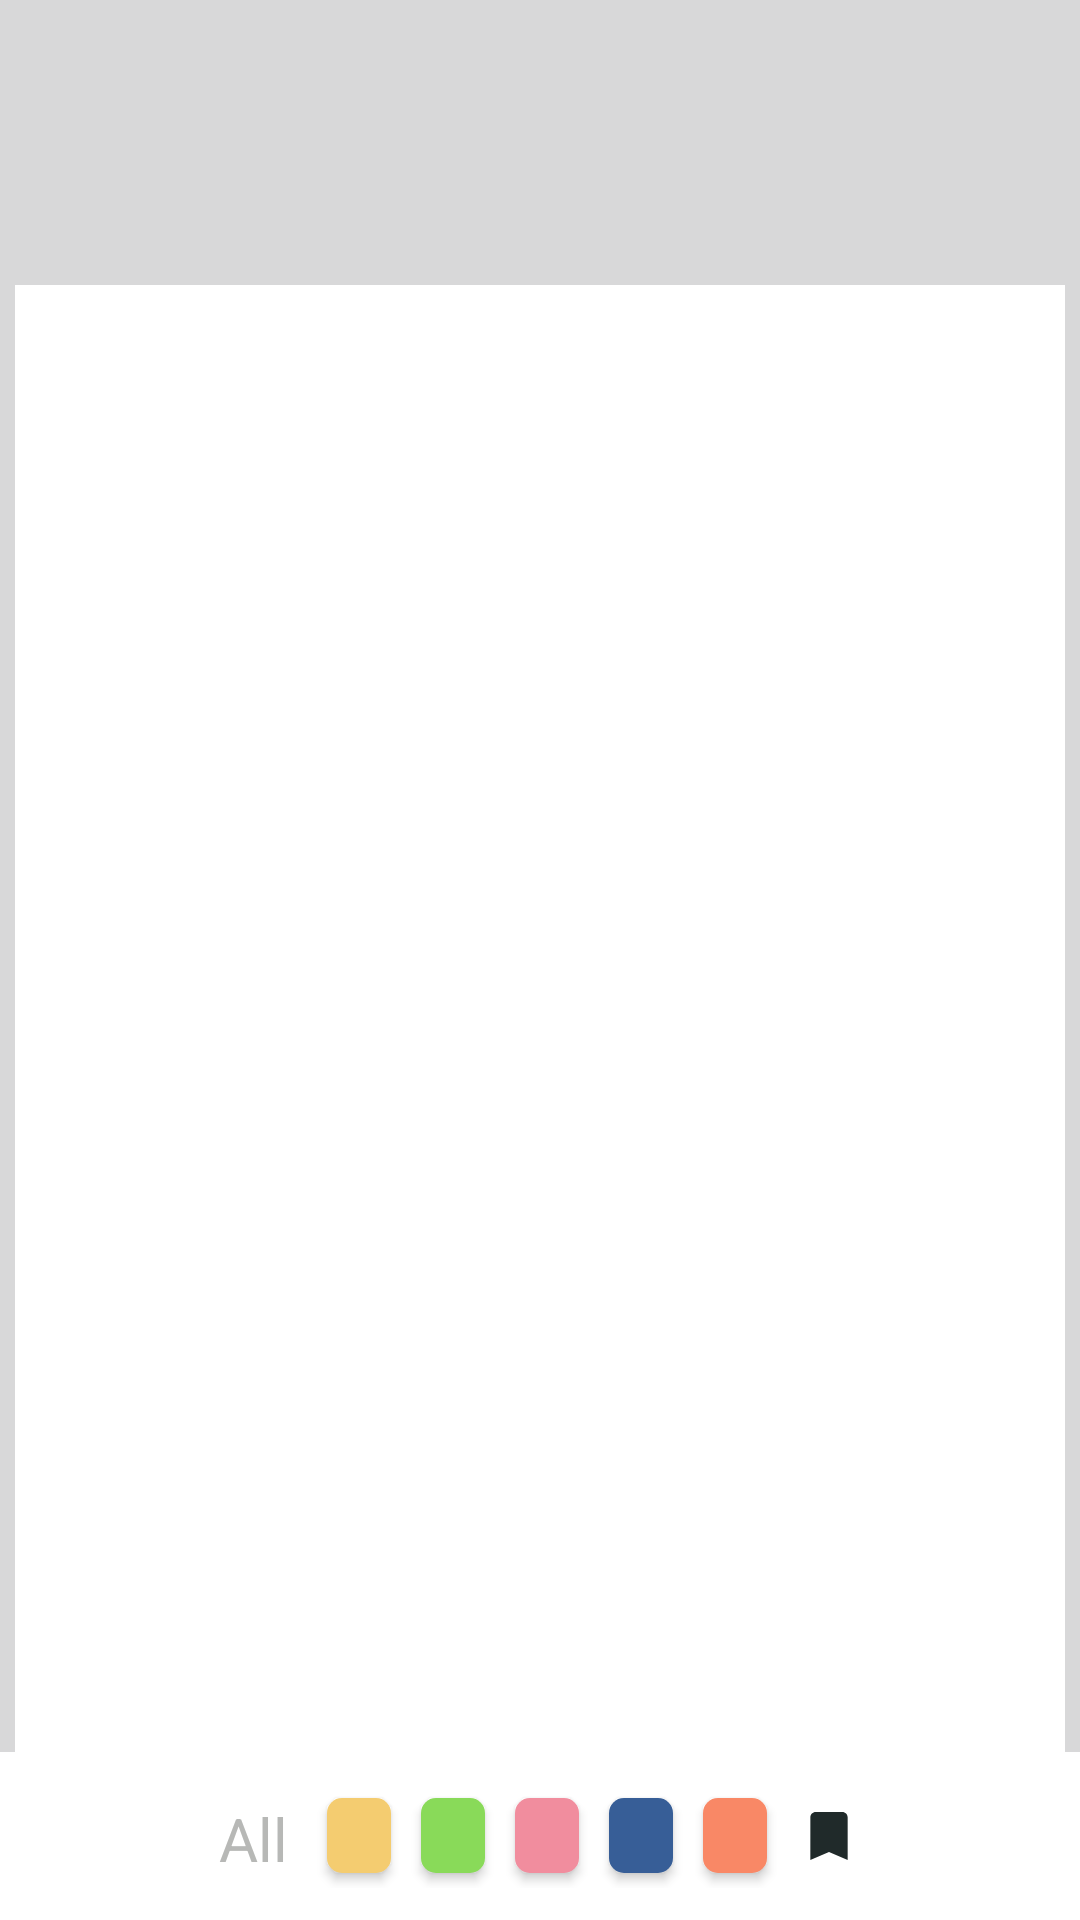

Where icons sit on this 1080px×1920px app screen, as [x1,y1,x2,y2]:
bookmark: [810,1812,848,1860]
